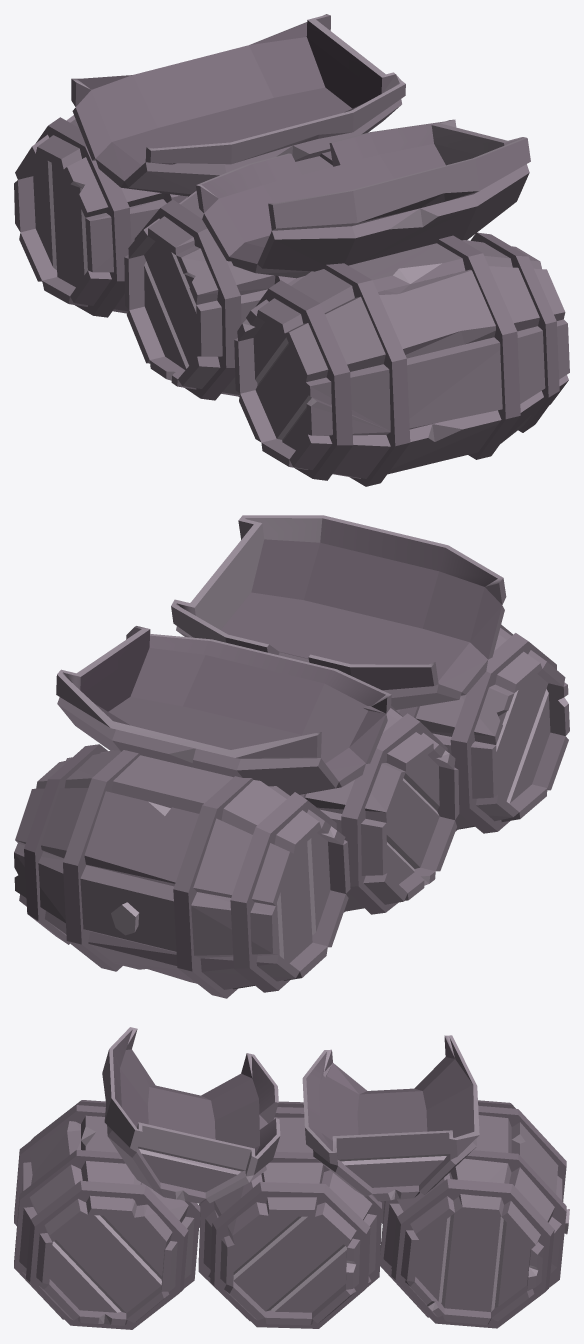
Rendered from SM_Prop_Barrel_broken.fbx.
3 renders of one model, top to bottom at view 1: azimuth 30°, elevation 25°; view 2: azimuth 150°, elevation 25°; view 3: azimuth 270°, elevation 25°, orthographic. The views are drawn at different scales.
Visible parts, largest first — view 1: SM_Prop_Barrel_broken; view 2: SM_Prop_Barrel_broken; view 3: SM_Prop_Barrel_broken.
Part boxes in pixels (x1,y1,x2,y2): SM_Prop_Barrel_broken: [14, 14, 569, 486]; SM_Prop_Barrel_broken: [14, 515, 569, 998]; SM_Prop_Barrel_broken: [14, 1027, 569, 1329].
Bounding box in the file's own units: 1.23 × 1.21 × 2.63.
Materials: 1 (1 with a texture image).
